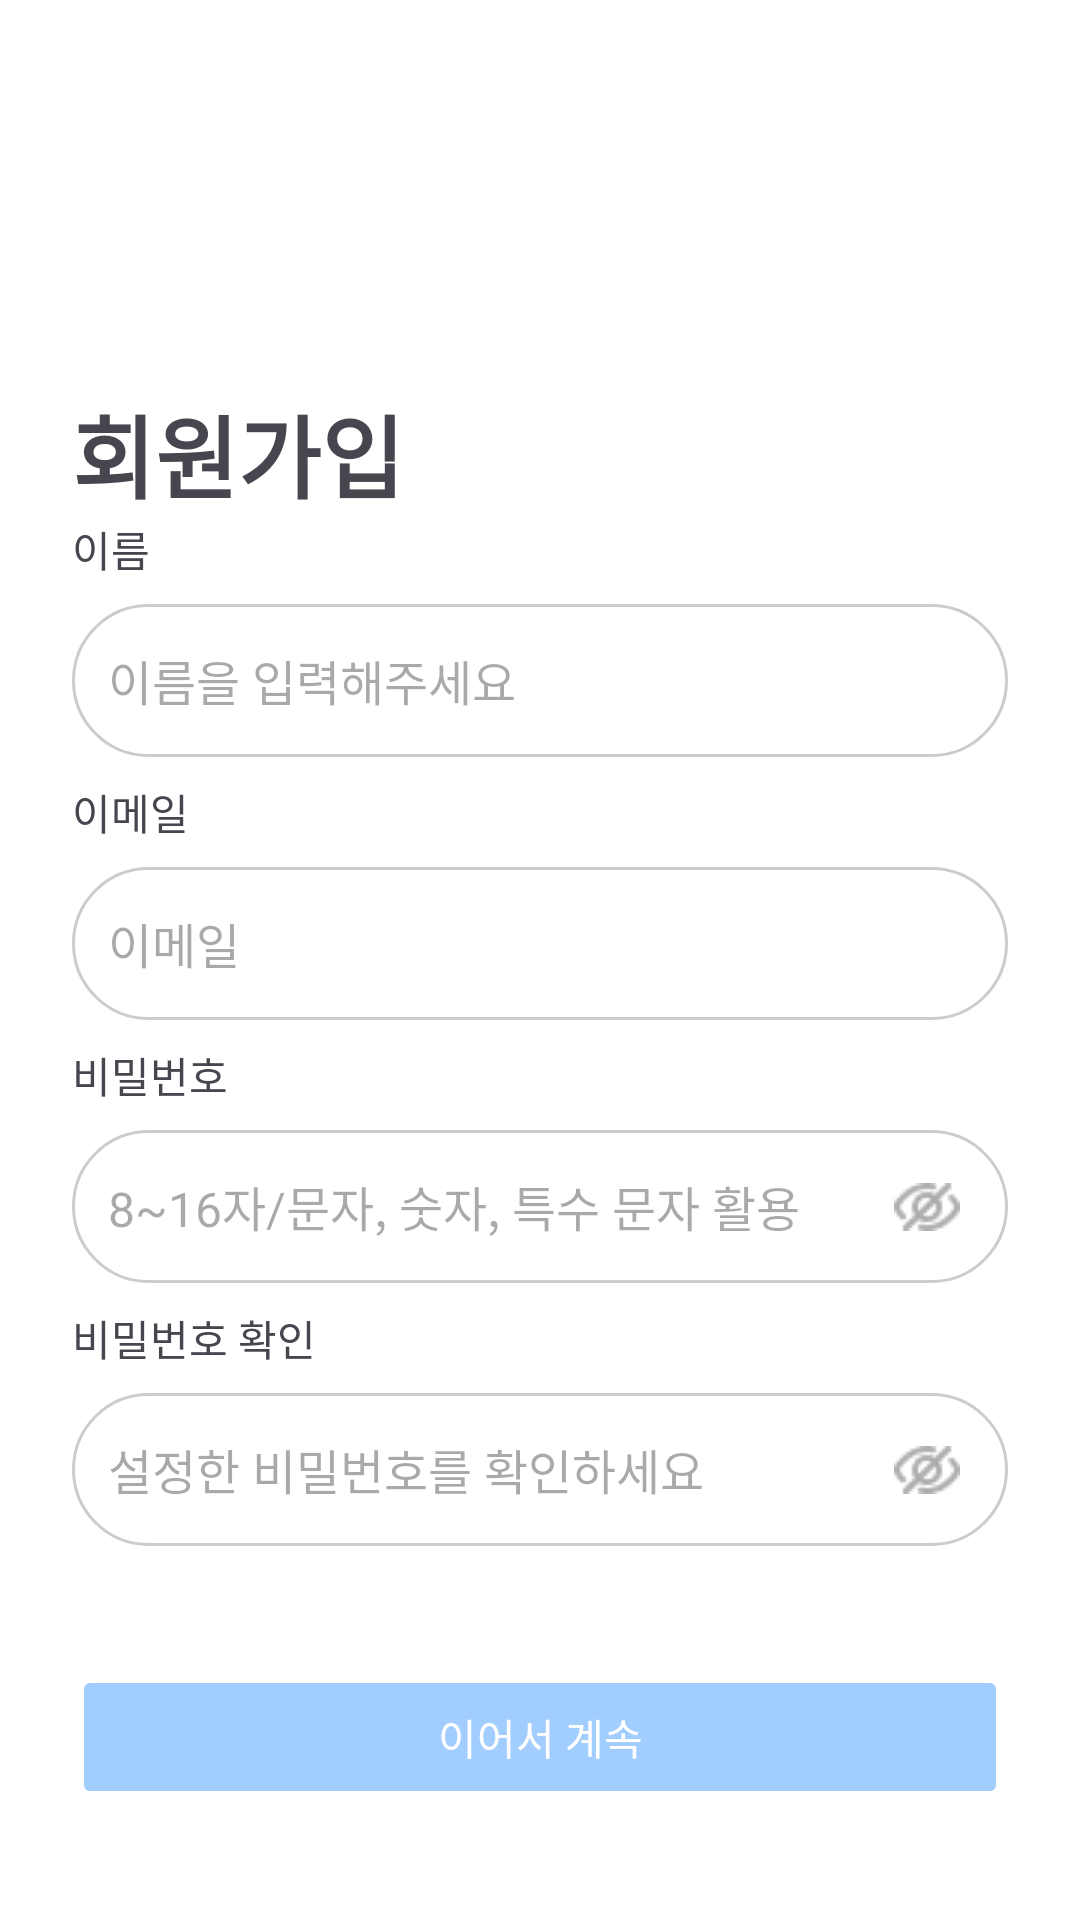

Icons on this 1080w x 1920h Android screen, each with the point to tap as (x=x, y=y):
show pw: (x=927, y=1207), (x=927, y=1470)
